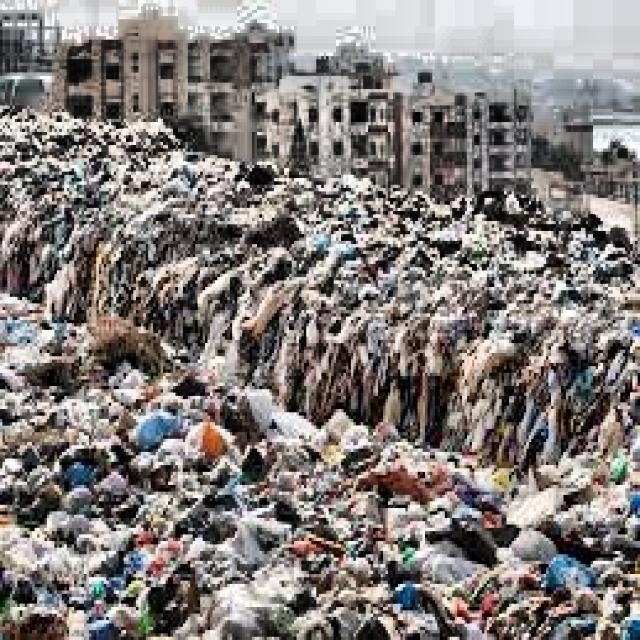garbage: (0, 231, 638, 637), (0, 178, 432, 234), (0, 105, 217, 188)
